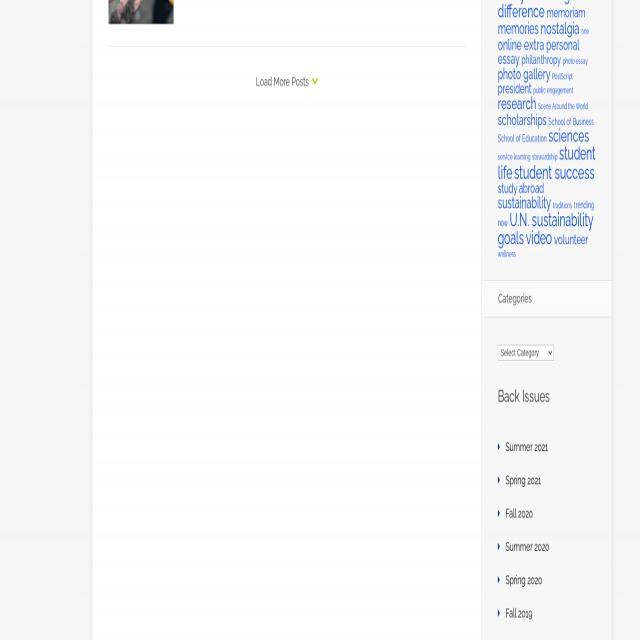field: (498, 344, 554, 362)
